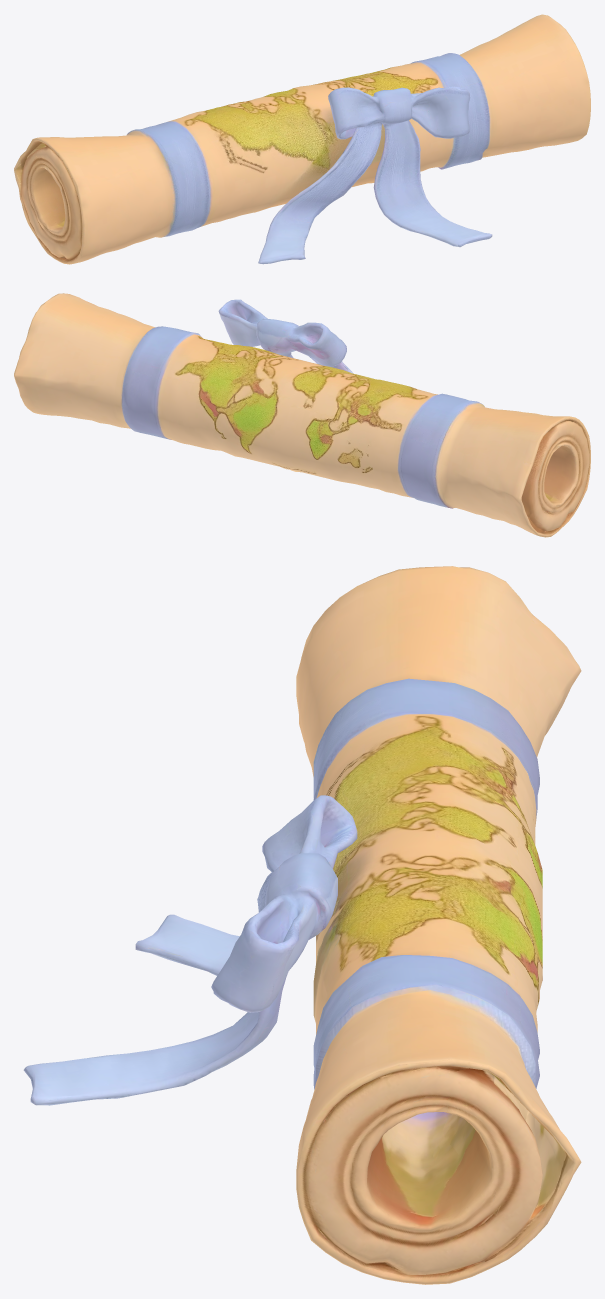
File: s1_gen_map_scroll.glb
3 views of the same model, one above another, from view 1: azimuth 30°, elevation 25°; view 2: azimuth 150°, elevation 25°; view 3: azimuth 270°, elevation 25° (orthographic). The views are drawn at different scales.
Size of the model in its own units: 1.91 by 0.4501 by 0.8963.
1 material, 1 textured.
